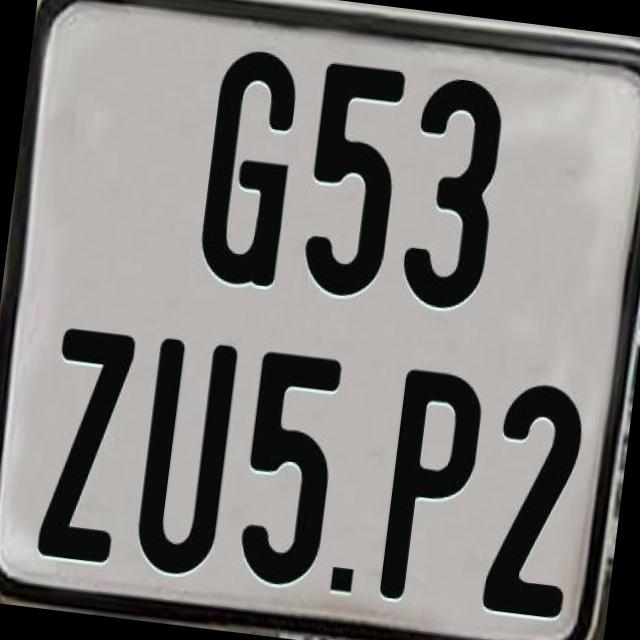2: (480, 376, 592, 618)
3: (394, 73, 510, 320)
5: (230, 346, 344, 590), (296, 60, 408, 306)
G: (192, 45, 299, 290)
P: (374, 368, 485, 616)
U: (129, 334, 238, 584)
Z: (36, 322, 142, 562)
